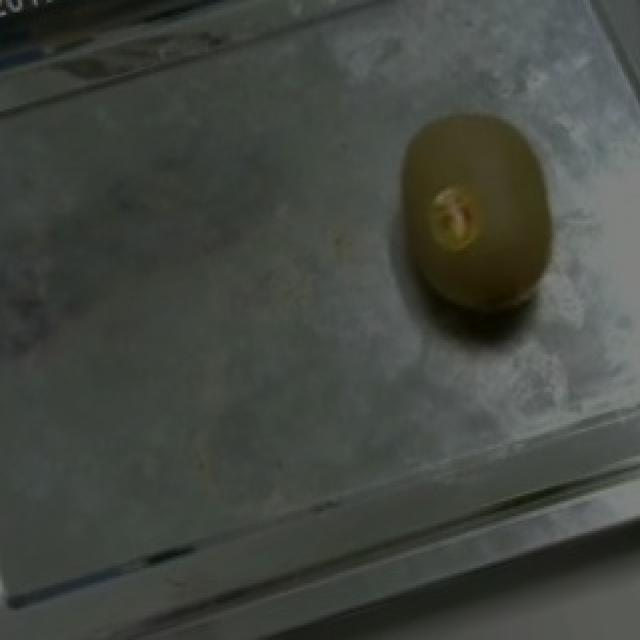Fruit: (354, 80, 592, 368)
